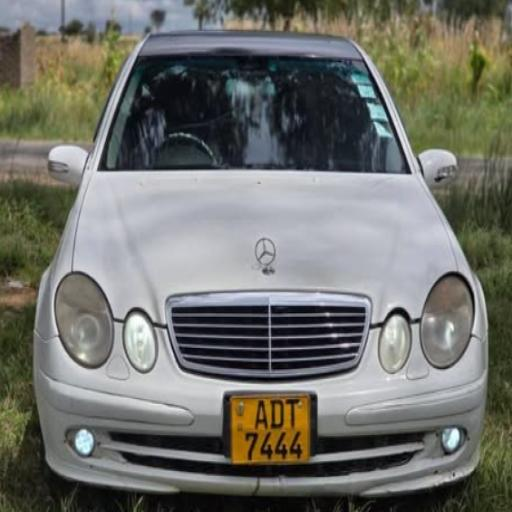number-plates: (226, 391, 312, 465)
